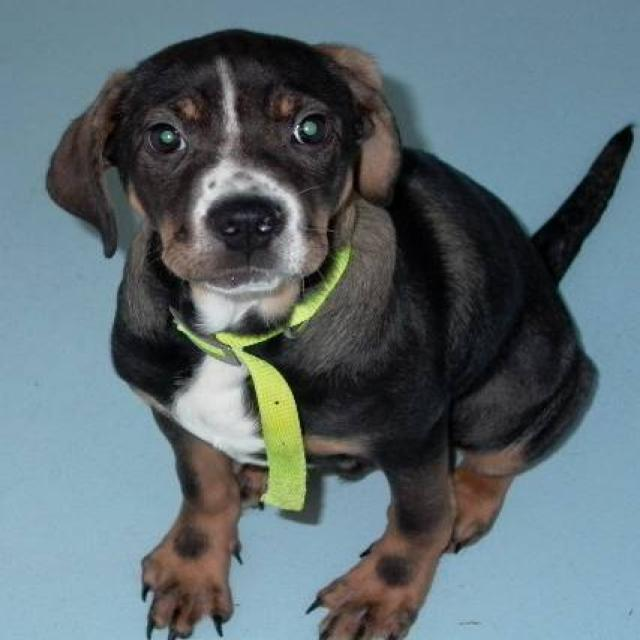dog: (44, 26, 636, 639)
